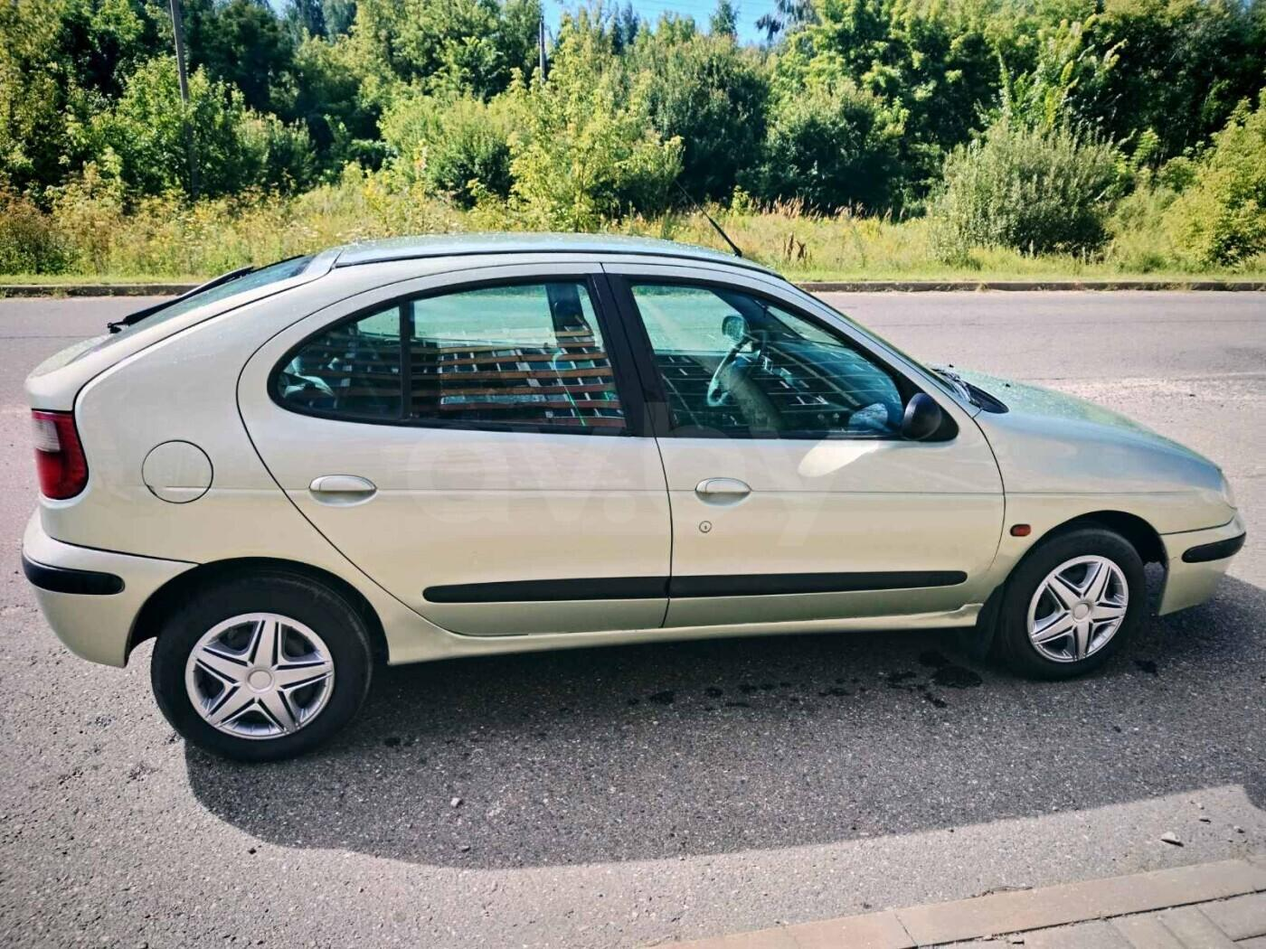Megane_1999-2003: (4, 230, 1241, 757)
